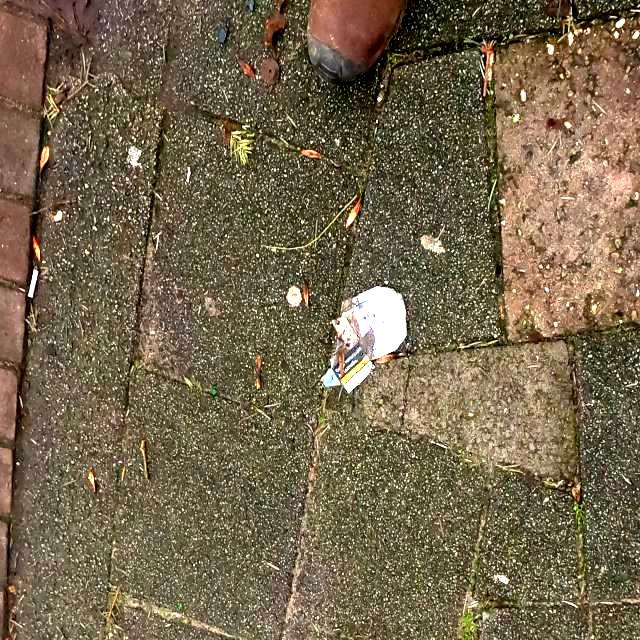Paper: (320, 283, 408, 395)
